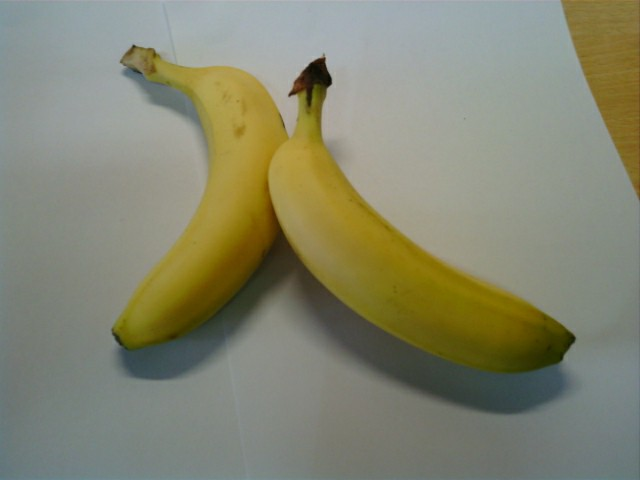fresh_banana: (272, 116, 575, 373), (104, 55, 287, 352)
